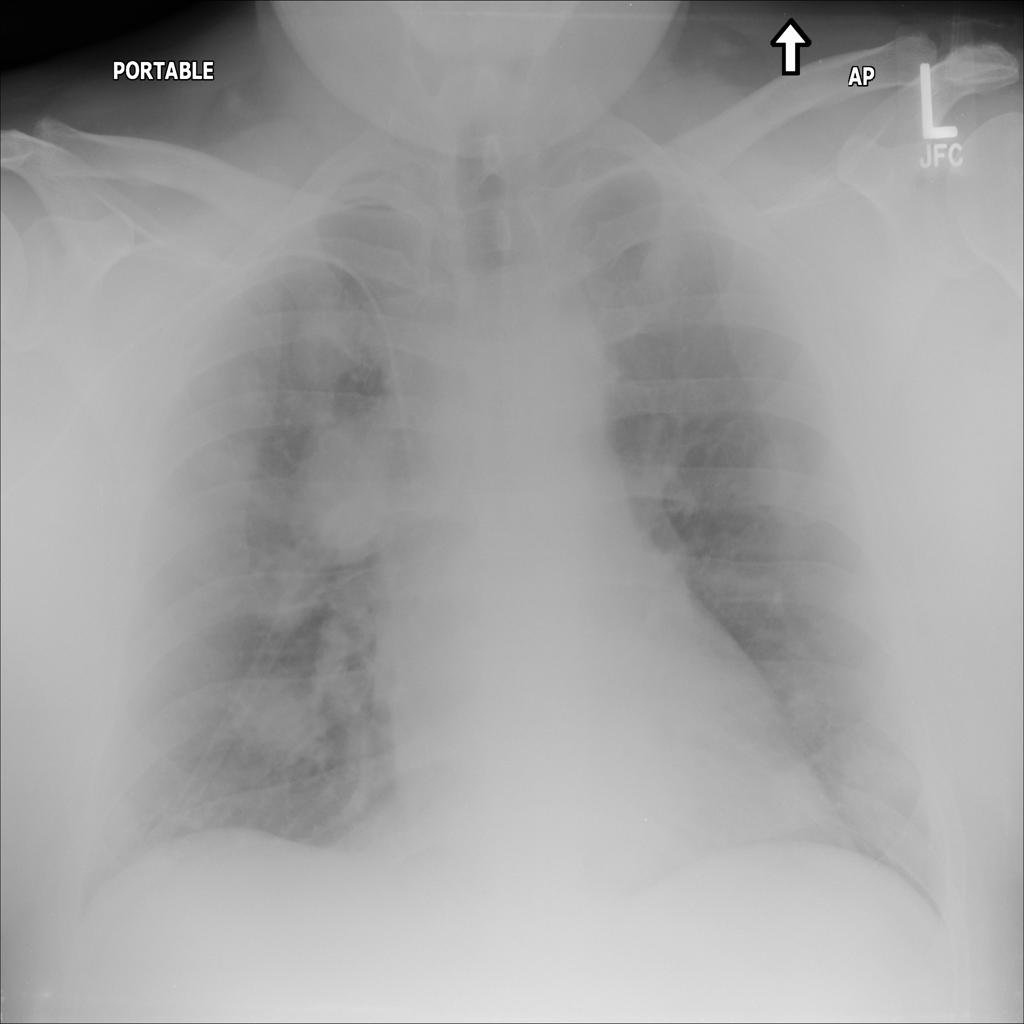nodule: (281, 383, 418, 571), (214, 653, 343, 776), (725, 411, 848, 538), (277, 292, 389, 400)
